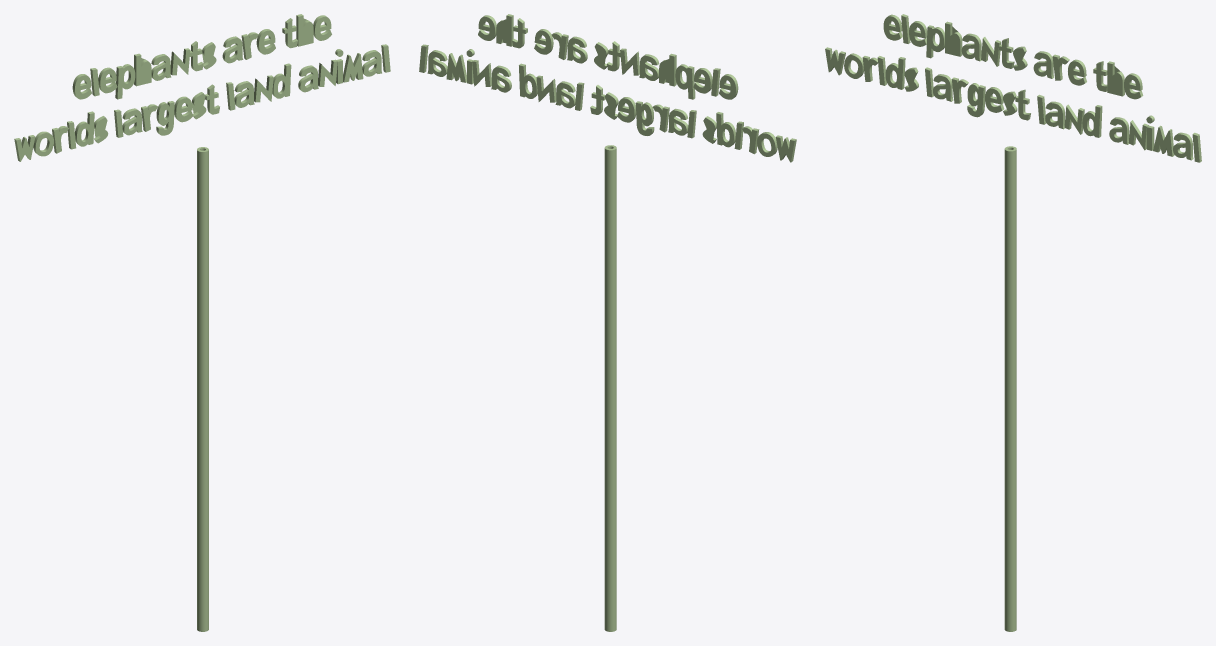
The model's file is tit bit 1.fbx.
3 views of the same model, side by side, from view 1: azimuth 30°, elevation 25°; view 2: azimuth 150°, elevation 25°; view 3: azimuth 330°, elevation 25° (orthographic).
Parts seen in each view (by area): view 1: Tube, g; view 2: Tube, g; view 3: Tube, g.
Boxes of the visible parts, <box> form: Tube: <box>197,147,208,631</box>; g: <box>156,101,174,135</box>; Tube: <box>604,145,616,631</box>; g: <box>635,101,654,135</box>; Tube: <box>1004,146,1016,631</box>; g: <box>967,83,985,117</box>.
Size of the model in its own units: 7082 by 10649 by 200.
